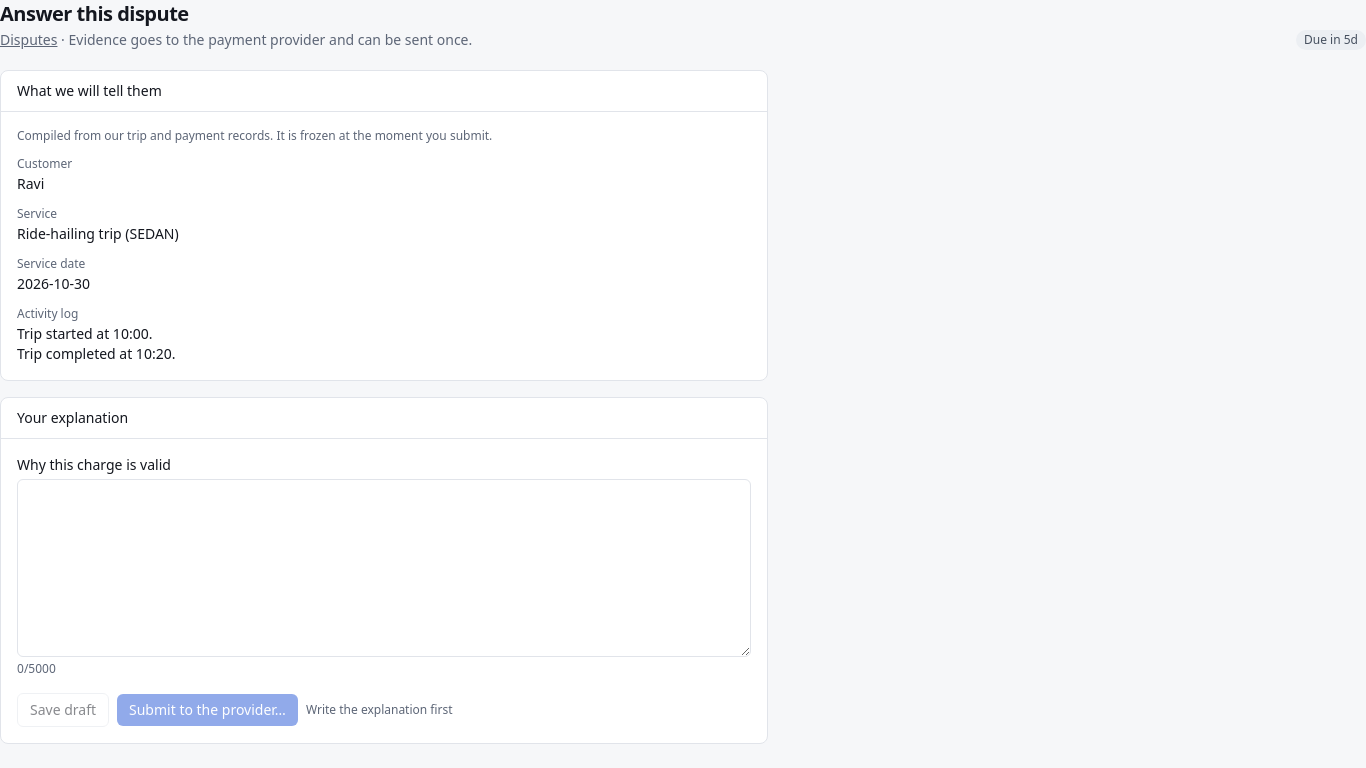
Test: answering a dispute › saves a draft first, and only then offers to submit, after a confirmation that says it is final
Expected: the text "Ravi" is shown, left=17, top=174, right=44, bottom=193
Type "Customer took the ride." into the text box labelled "Why this charge is valid". click: (384, 568)
box: left=17, top=479, right=751, bottom=657
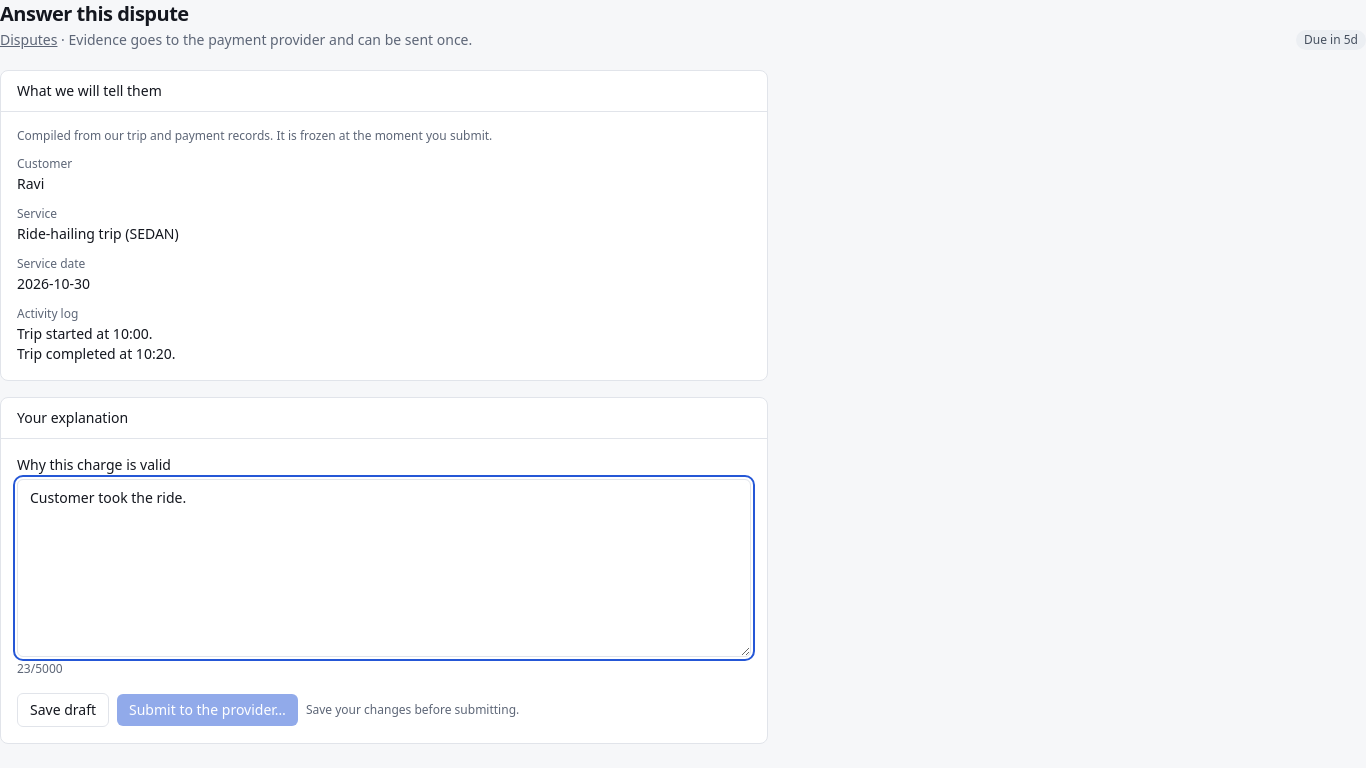
Expected: the button "Submit to the provider…" is disabled, left=117, top=694, right=298, bottom=726
Click the button "Save draft". click: (63, 710)
box: left=17, top=693, right=109, bottom=727
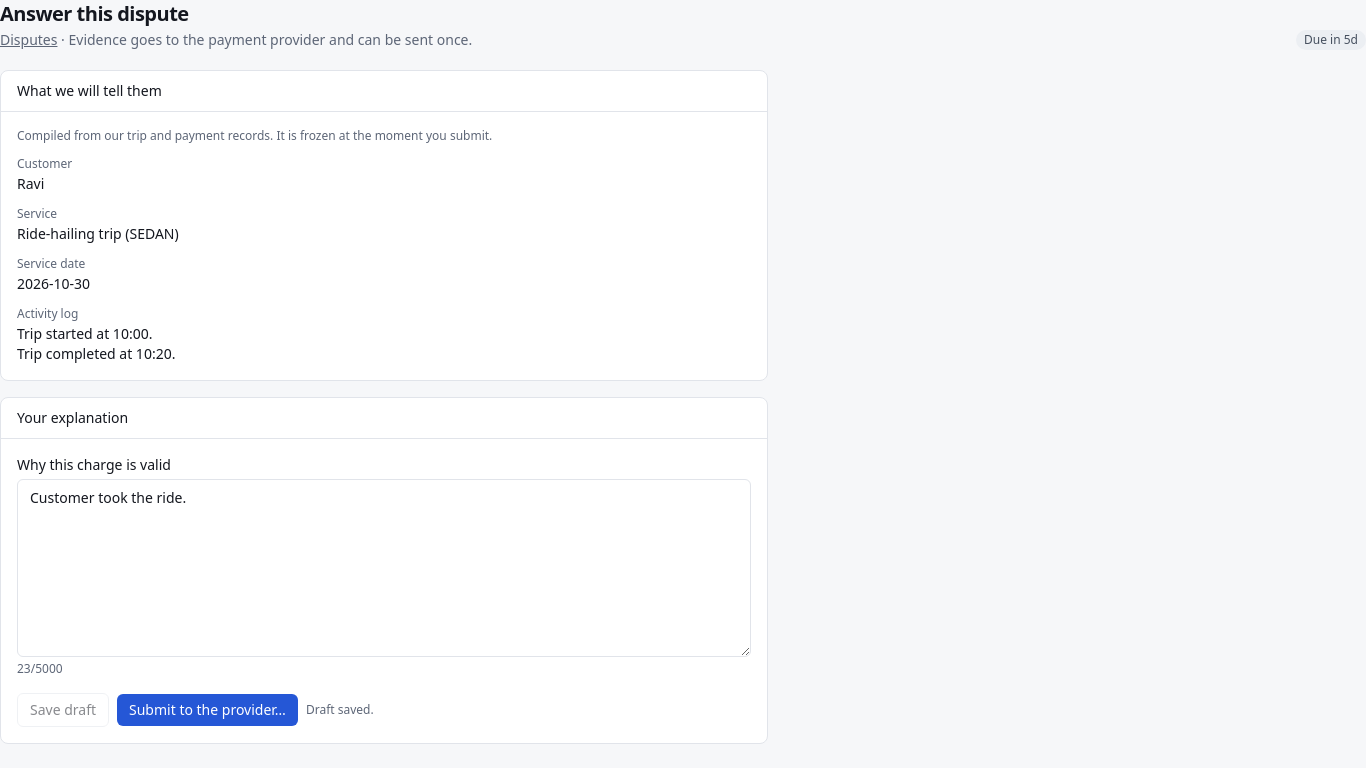
Expected: the button "Submit to the provider…" is enabled
Click the button "Submit to the provider…". click: (207, 710)
box: left=117, top=694, right=298, bottom=726
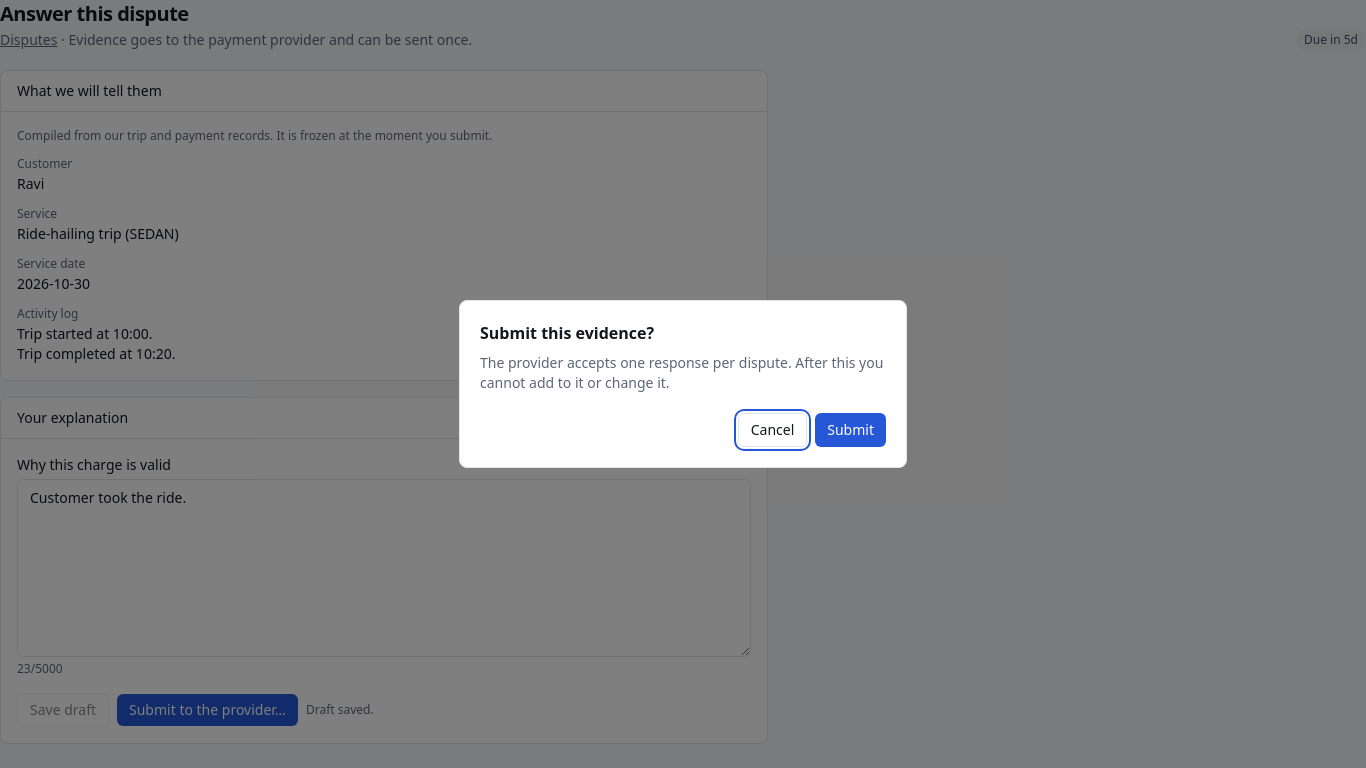
Expected: the text "one response per dispute" is shown, left=480, top=353, right=883, bottom=392
Click the button "Submit". click: (851, 430)
box: left=815, top=413, right=886, bottom=447
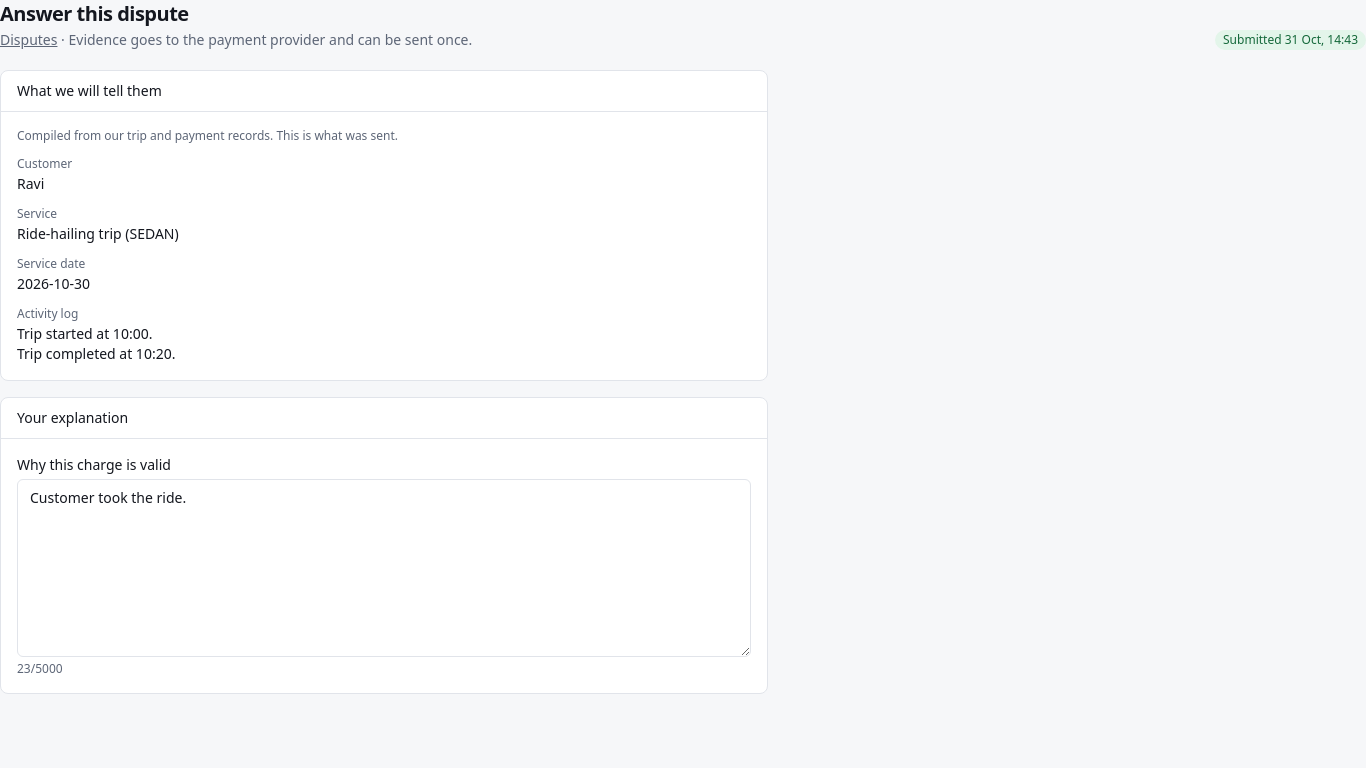
Expected: the text "Submitted 31 Oct, 14:43" is shown, left=1215, top=30, right=1365, bottom=50
Expected: the button "Save draft" is gone
